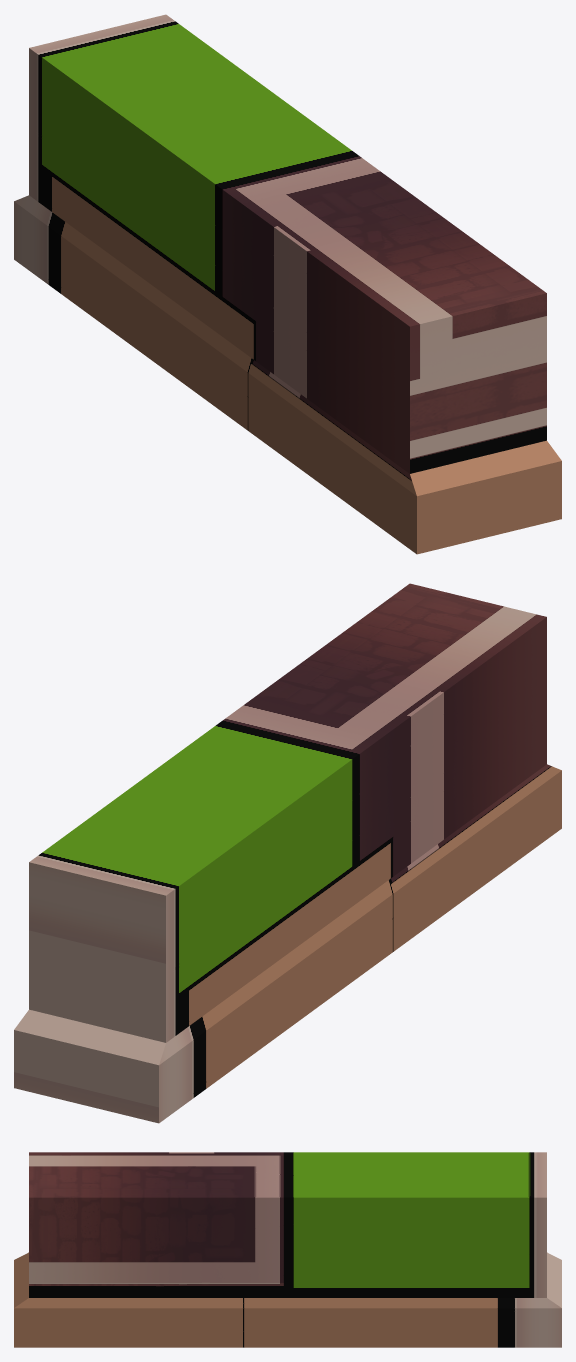
File: Bush.FBX
The picture shows the model from 3 angles, top to bottom: view 1: azimuth 30°, elevation 25°; view 2: azimuth 150°, elevation 25°; view 3: azimuth 270°, elevation 25°; orthographic projection. The views are drawn at different scales.
Parts seen in each view (by area): view 1: Object001; view 2: Object001; view 3: Object001.
Boxes of the visible parts, x1,y1,x2,y2 form: Object001: [14, 14, 561, 554]; Object001: [14, 583, 561, 1123]; Object001: [14, 1152, 561, 1347].
Bounding box in the file's own units: 4.51 × 6.5 × 21.71.
Materials: 1 (1 with a texture image).
